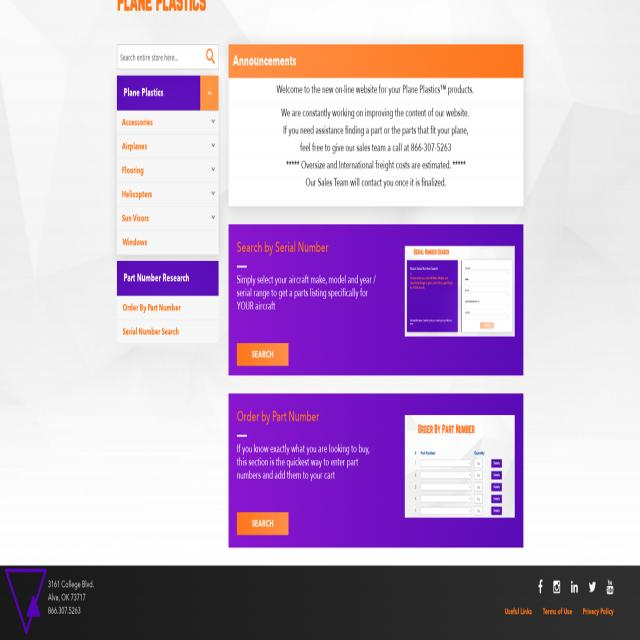button: (405, 415, 515, 518), (405, 246, 515, 336), (0, 563, 49, 640), (237, 343, 288, 366), (237, 512, 288, 535), (200, 76, 218, 110), (566, 578, 583, 598), (584, 578, 601, 598), (549, 578, 565, 598), (602, 578, 618, 598), (534, 578, 548, 598), (206, 44, 215, 69), (208, 138, 218, 153), (208, 114, 218, 128), (208, 162, 218, 176), (208, 186, 218, 200), (208, 210, 218, 224)
field: (117, 44, 218, 70)
